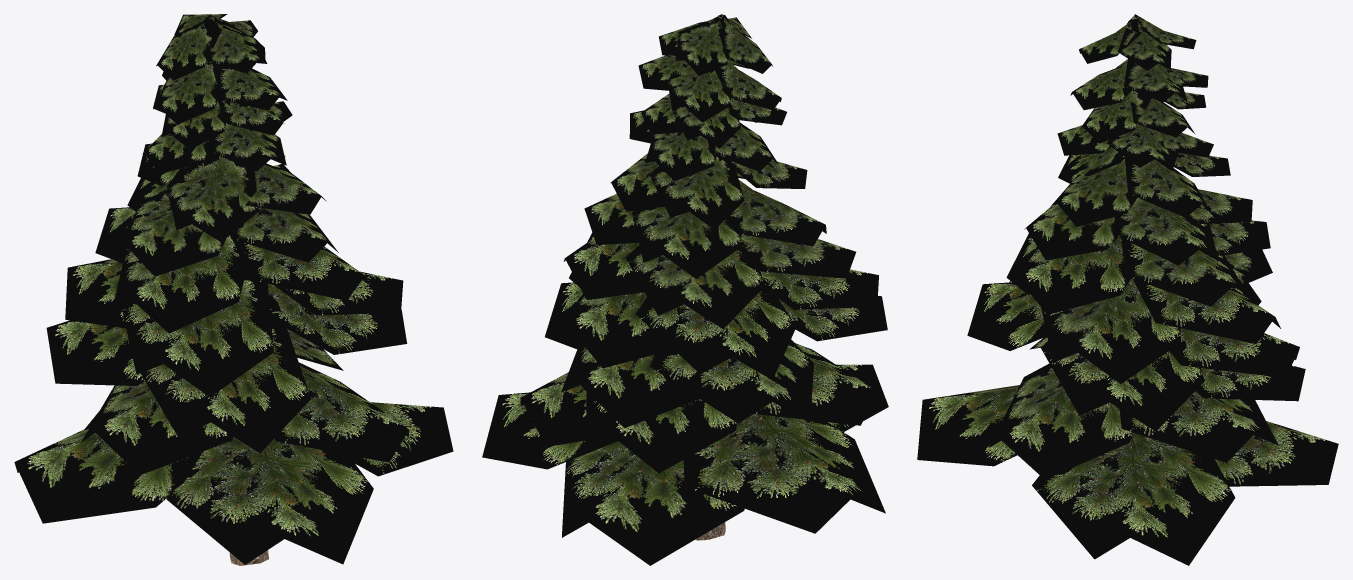
Rendered from scrubPine.DAE.
3 views of the same model, side by side, from view 1: azimuth 30°, elevation 25°; view 2: azimuth 150°, elevation 25°; view 3: azimuth 270°, elevation 25° (orthographic). The views are drawn at different scales.
Parts seen in each view (by area): view 1: SoftNeedlePine512; view 2: SoftNeedlePine512; view 3: SoftNeedlePine512.
Boxes of the visible parts, <box> form: SoftNeedlePine512: <box>14,14,453,565</box>; SoftNeedlePine512: <box>482,14,888,565</box>; SoftNeedlePine512: <box>917,14,1338,565</box>.
Size of what is drawn, in the model's own units: 7.16 by 7.02 by 9.31.
